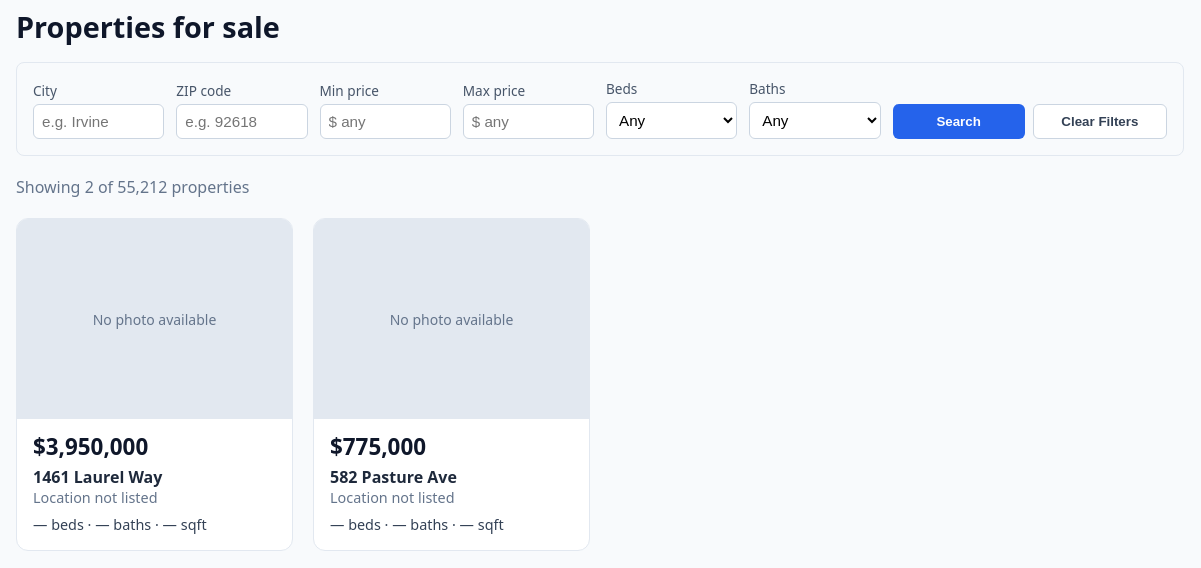
Scenario: keeps what the user typed when a search fails
Type "900000" into the number field labelled "Min price". click: (385, 122)
box: [320, 104, 451, 139]
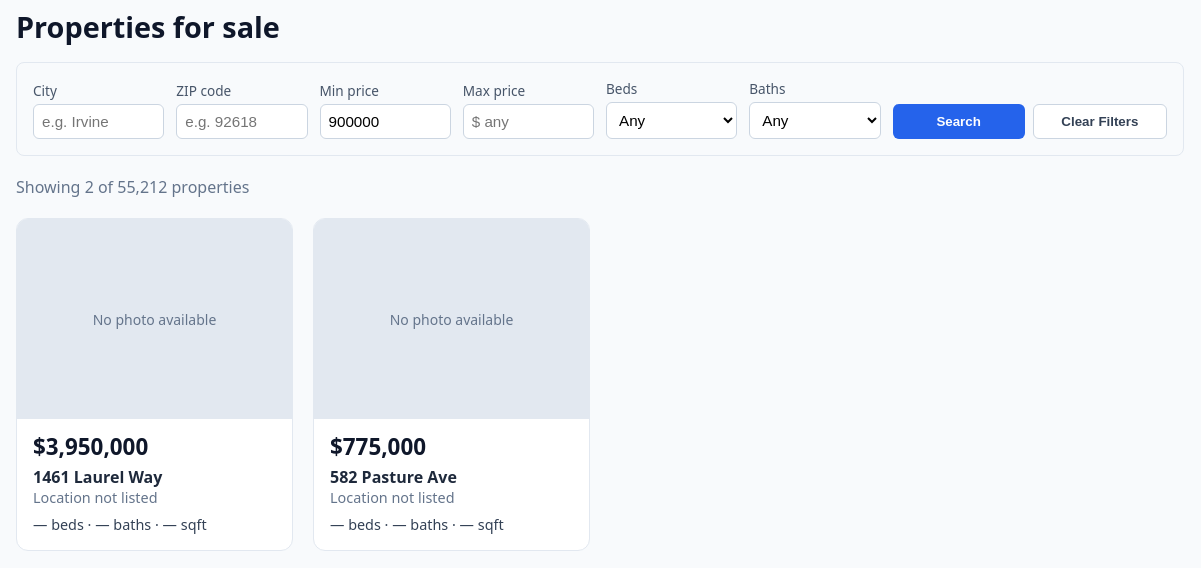
Type "100000" into the number field labelled "Max price". click: (528, 122)
box: [463, 104, 594, 139]
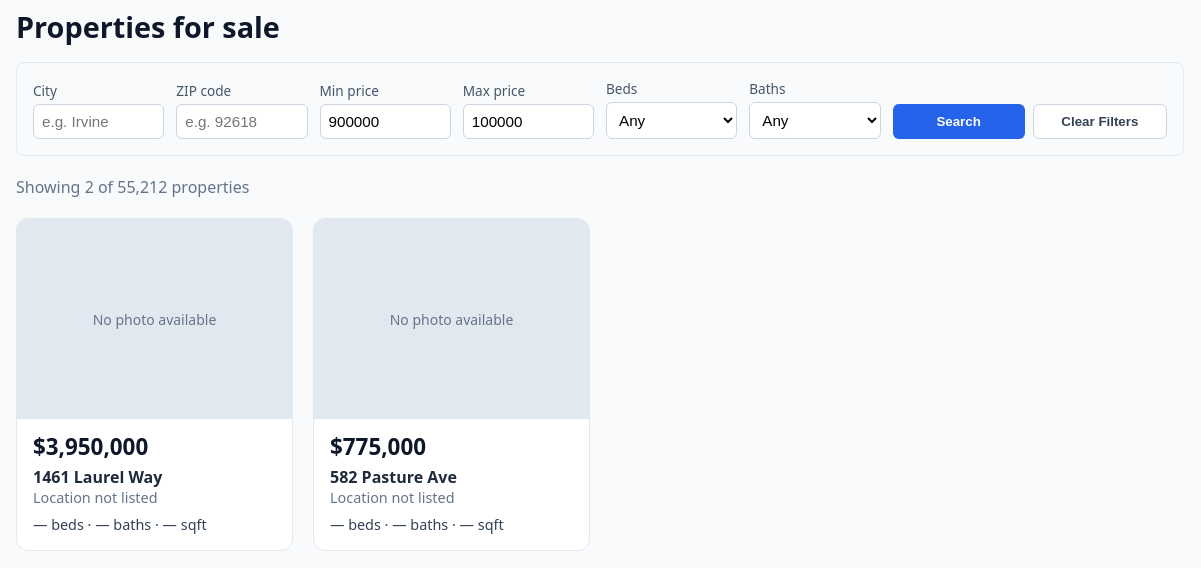
Click the button "Search". click: (959, 122)
box: [892, 104, 1025, 139]
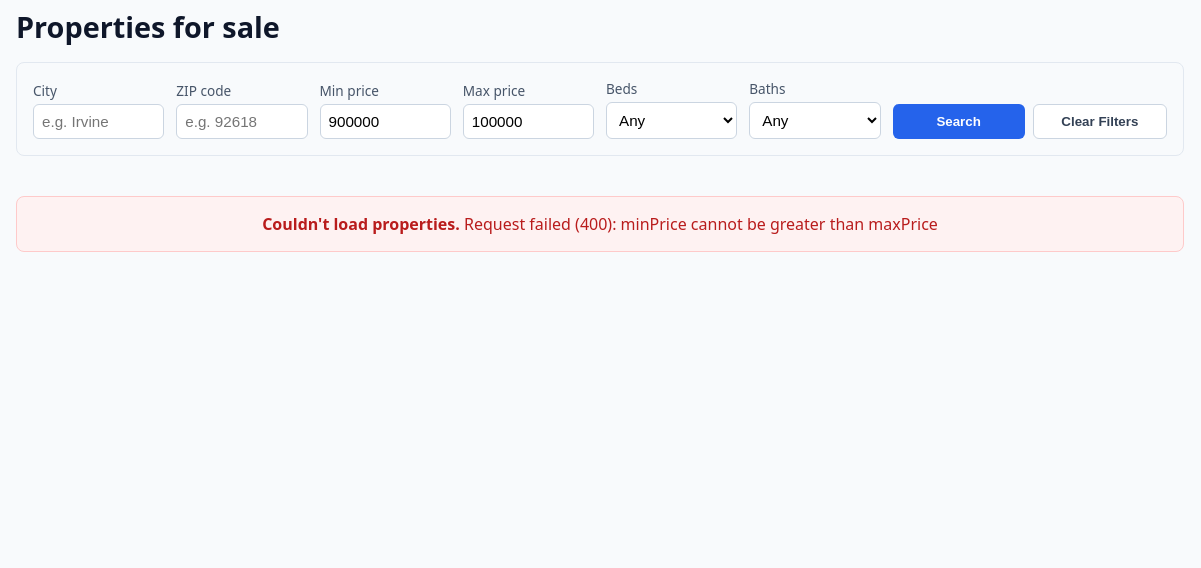
Result: the message shows "minPrice cannot be greater than maxPrice" at [464, 213, 938, 235]
